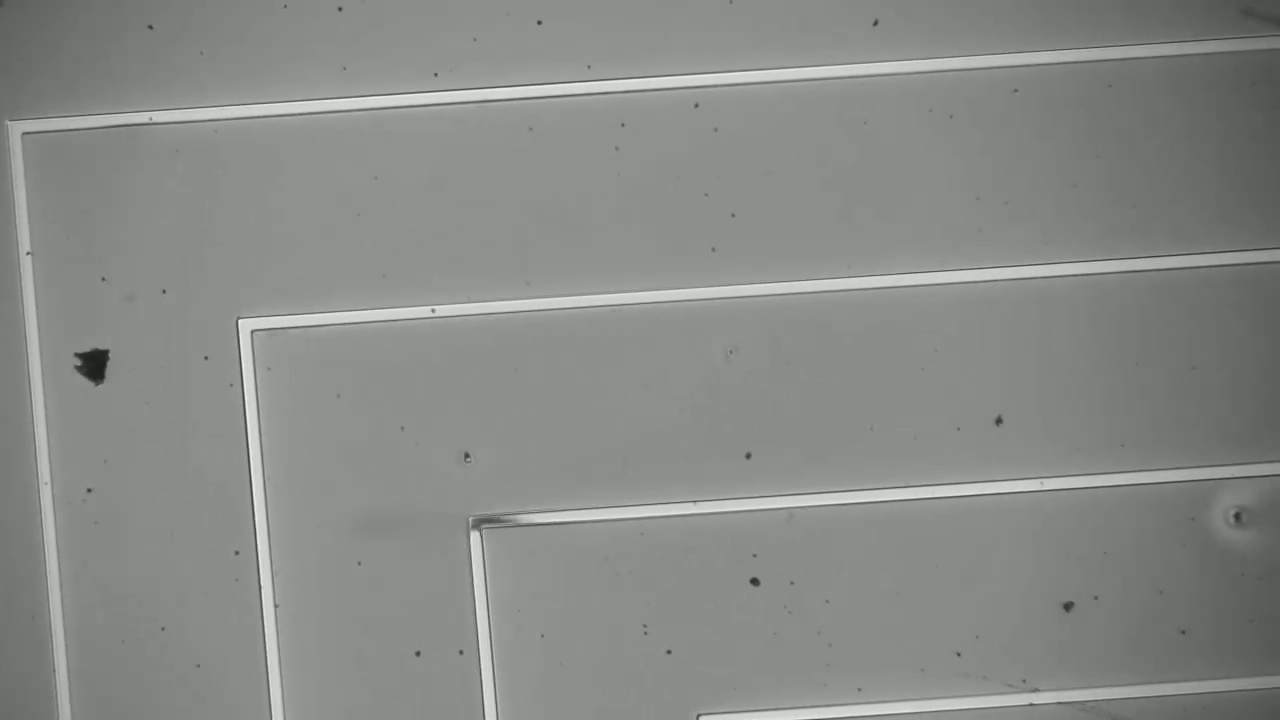gray_line: (458, 499, 532, 538)
